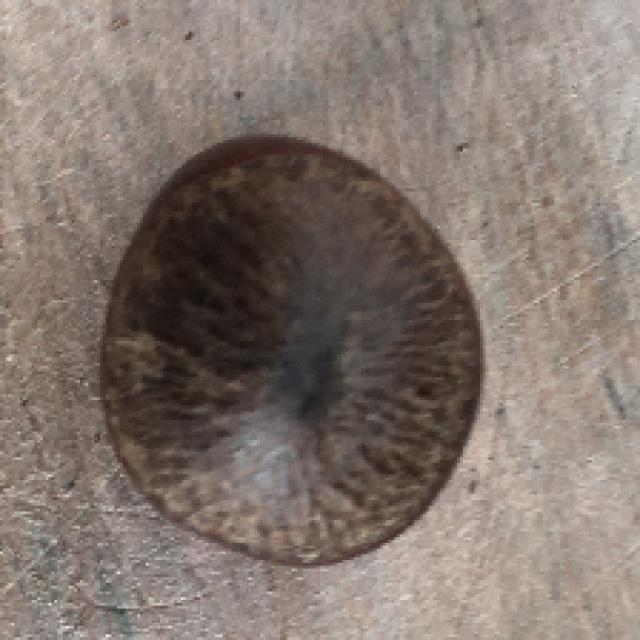DamagedHazelnut: (103, 134, 485, 565)
